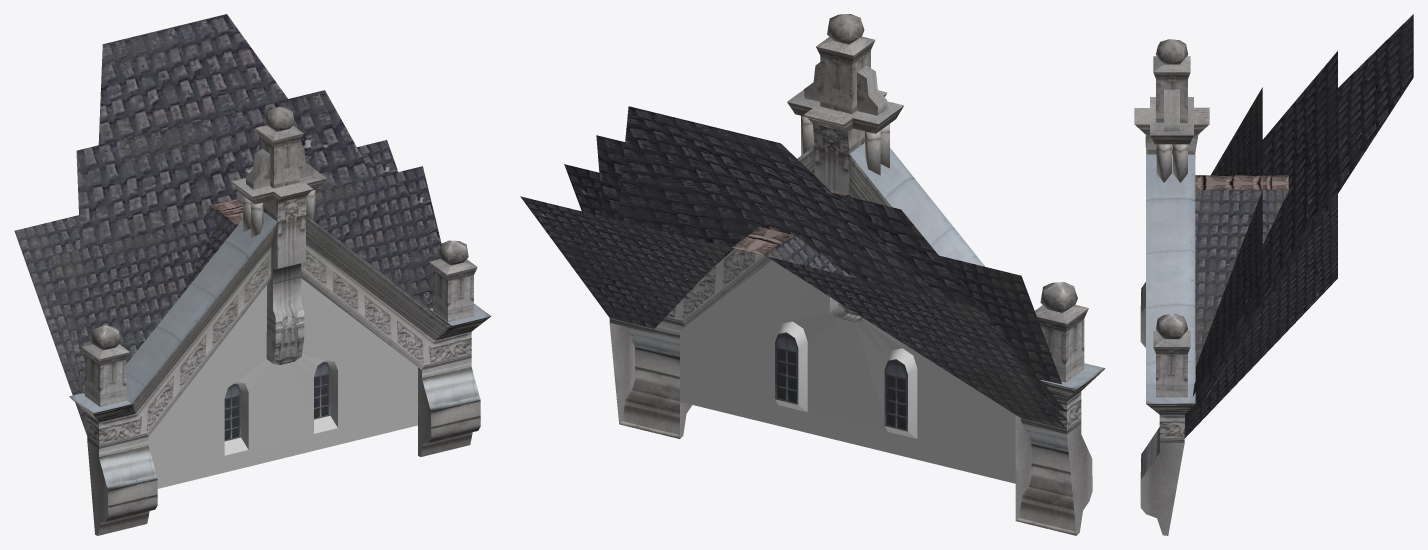
Rendered from FacadeTopA.fbx.
3 renders of one model, left to right at view 1: azimuth 30°, elevation 25°; view 2: azimuth 150°, elevation 25°; view 3: azimuth 270°, elevation 25°, orthographic. The views are drawn at different scales.
Visible parts, largest first — view 1: FacadeTopA, FacadeTopA-Roof1x3, FacadeTopA-Roof2x4, FacadeTopA-Roof3x5, FacadeTopA-Roof2x3; view 2: FacadeTopA, FacadeTopA-Roof2x3, FacadeTopA-Roof3x5, FacadeTopA-Roof2x4, FacadeTopA-Roof1x3; view 3: FacadeTopA, FacadeTopA-Roof1x3, FacadeTopA-Roof2x4, FacadeTopA-Roof3x5, FacadeTopA-Roof2x3.
Part boxes in pixels (bbox=[...]): FacadeTopA: bbox=[69, 107, 491, 535]; FacadeTopA-Roof1x3: bbox=[50, 166, 441, 393]; FacadeTopA-Roof2x4: bbox=[76, 90, 373, 419]; FacadeTopA-Roof3x5: bbox=[98, 14, 287, 144]; FacadeTopA-Roof2x3: bbox=[14, 140, 398, 435]; FacadeTopA: bbox=[609, 14, 1105, 535]; FacadeTopA-Roof2x3: bbox=[520, 195, 1066, 429]; FacadeTopA-Roof3x5: bbox=[617, 106, 1066, 418]; FacadeTopA-Roof2x4: bbox=[596, 135, 1066, 411]; FacadeTopA-Roof1x3: bbox=[564, 164, 1061, 384]; FacadeTopA: bbox=[1134, 39, 1209, 535]; FacadeTopA-Roof1x3: bbox=[1192, 87, 1262, 396]; FacadeTopA-Roof2x4: bbox=[1185, 51, 1337, 422]; FacadeTopA-Roof3x5: bbox=[1184, 14, 1413, 428]; FacadeTopA-Roof2x3: bbox=[1184, 194, 1337, 438].
Size of the model in its own units: 643 by 586 by 370.
